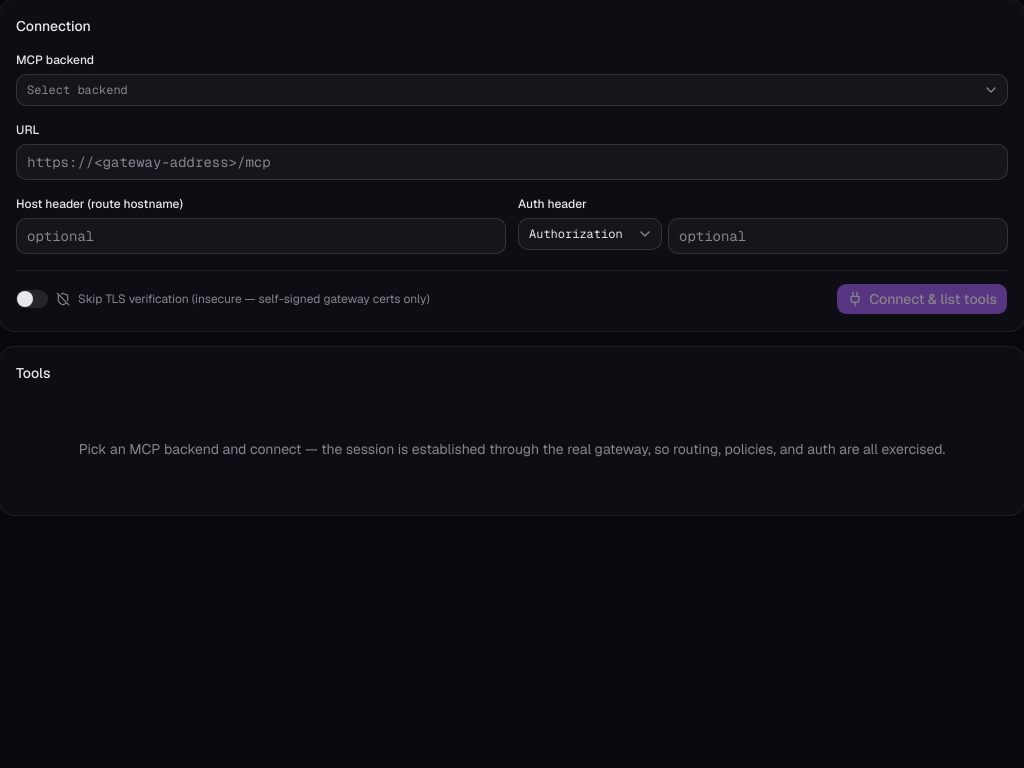
Test: McpPanel › lists only MCP backends and seeds the /mcp url from the resolved endpoint
Step 1. Click the dropdown labelled "Select backend" → (77, 90), box [16,74,1008,106]
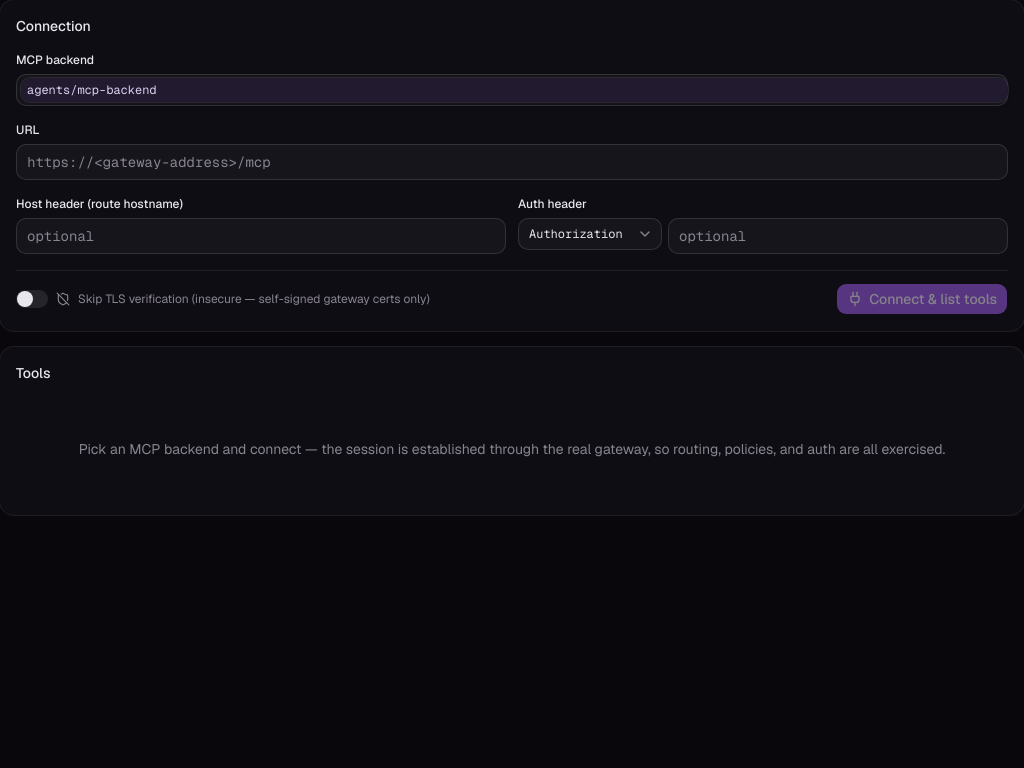
Expected: the option "agents/mcp-backend" is shown
Step 2. Click the option "agents/mcp-backend" → (49, 90), box [21,78,1008,102]
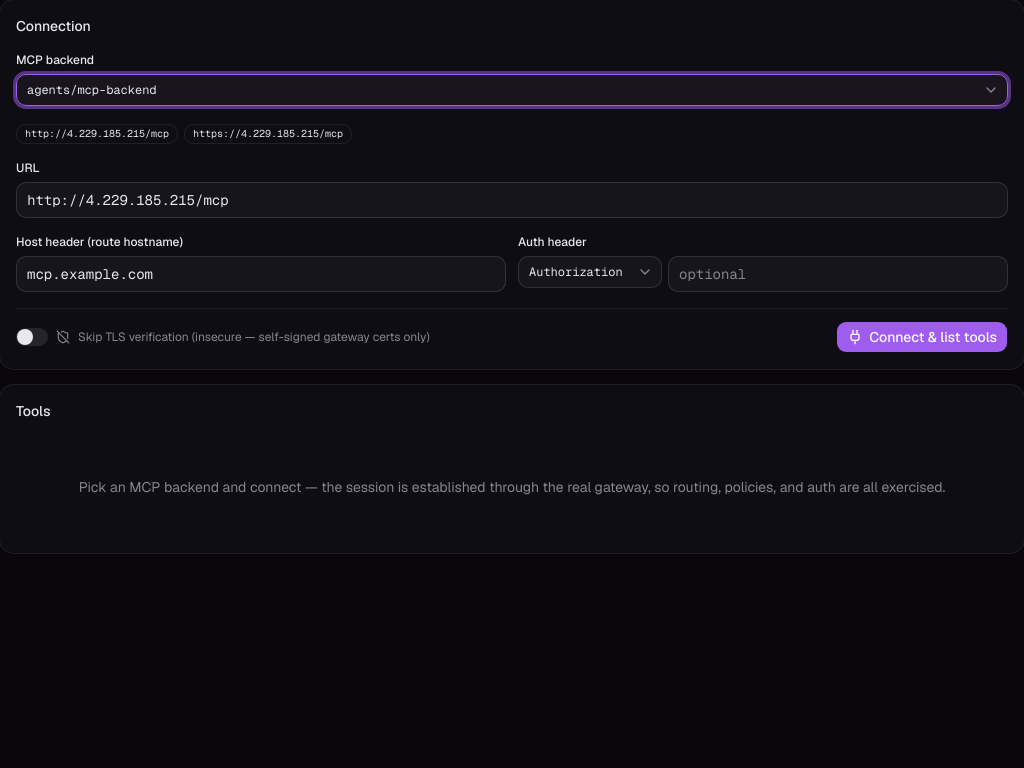
Expected: the field showing "http://4.229.185.215/mcp" below "URL" is shown, [16,182,1008,218]
Expected: the field showing "mcp.example.com" below "Host header (route hostname)" is shown, [16,256,506,292]
